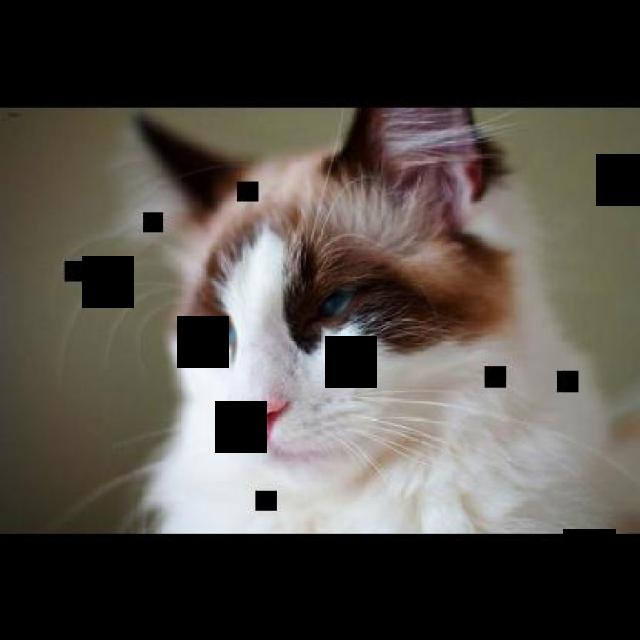unauthorized: (57, 106, 638, 534)
